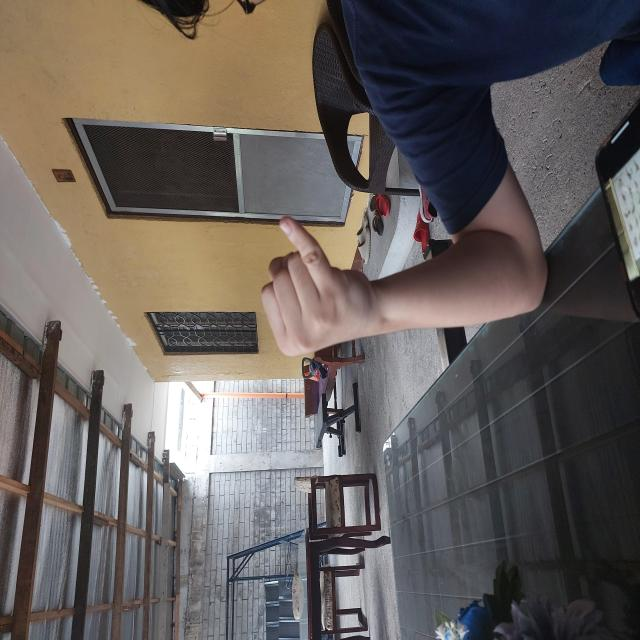J: (225, 194, 400, 393)
